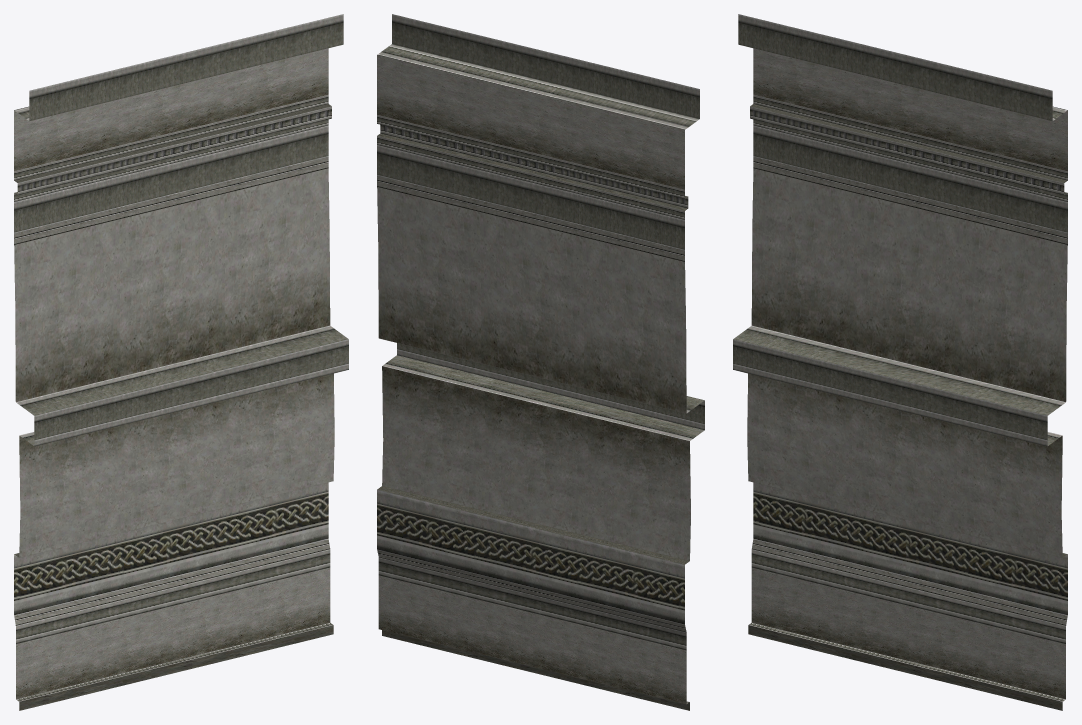
The model's file is DWARF_PALACE_WATER_ROOM_WALL01C01.fbx.
The picture shows the model from 3 angles, left to right: view 1: azimuth 30°, elevation 25°; view 2: azimuth 150°, elevation 25°; view 3: azimuth 330°, elevation 25°; orthographic projection. The views are drawn at different scales.
Visible parts, largest first — view 1: DWARF_PALACE_WATER_ROOM_WALL01C01; view 2: DWARF_PALACE_WATER_ROOM_WALL01C01; view 3: DWARF_PALACE_WATER_ROOM_WALL01C01.
Boxes of the visible parts, x1=… form: DWARF_PALACE_WATER_ROOM_WALL01C01: x1=14, y1=14, x2=348, y2=710; DWARF_PALACE_WATER_ROOM_WALL01C01: x1=377, y1=14, x2=704, y2=710; DWARF_PALACE_WATER_ROOM_WALL01C01: x1=733, y1=14, x2=1067, y2=710.
Bounding box in the file's own units: 107467 × 205000 × 12001.
Materials: 7 (7 with a texture image).
